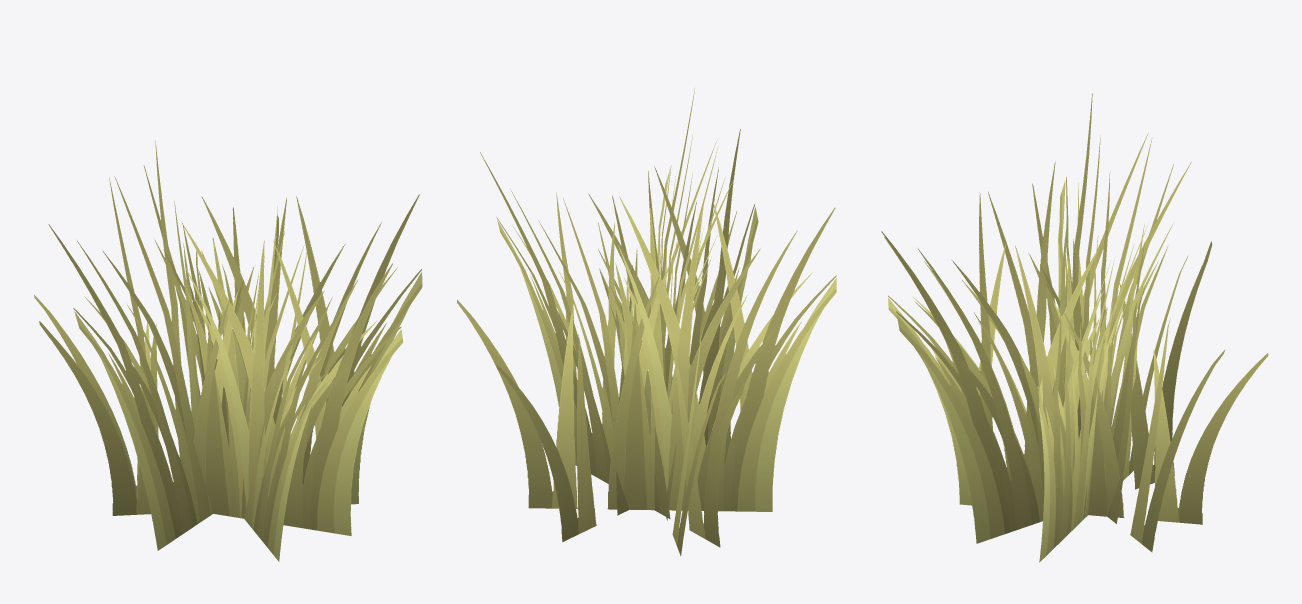
File: beach_grass_1_mid.glb
The picture shows the model from 3 angles, left to right: view 1: azimuth 30°, elevation 25°; view 2: azimuth 150°, elevation 25°; view 3: azimuth 270°, elevation 25°; orthographic projection. The views are drawn at different scales.
Parts seen in each view (by area): view 1: beach_grass_1_mid; view 2: beach_grass_1_mid; view 3: beach_grass_1_mid.
Part boxes in pixels (x1=…): beach_grass_1_mid: x1=34, y1=140, x2=422, y2=561; beach_grass_1_mid: x1=457, y1=89, x2=836, y2=556; beach_grass_1_mid: x1=881, y1=93, x2=1268, y2=562.
Bounding box in the file's own units: 0.8361 × 0.8656 × 0.8128.
1 material, 1 textured.
